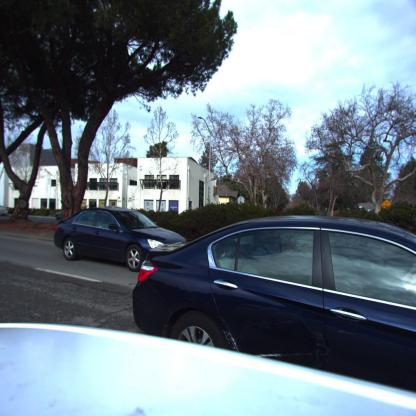car: (116, 224, 416, 408), (53, 208, 189, 272)
